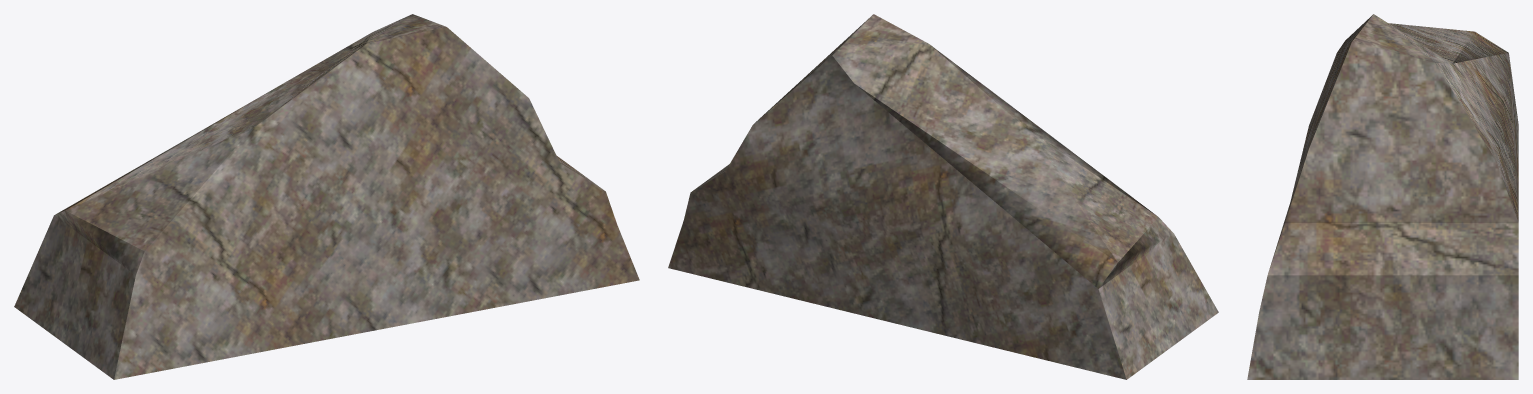
Rendered from RckS04.glb.
3 views of the same model, side by side, from view 1: azimuth 30°, elevation 25°; view 2: azimuth 150°, elevation 25°; view 3: azimuth 270°, elevation 25° (orthographic). The views are drawn at different scales.
Visible parts, largest first — view 1: _RckS04; view 2: _RckS04; view 3: _RckS04.
Boxes of the visible parts, x1,y1,x2,y2 form: _RckS04: (14, 14, 639, 379); _RckS04: (668, 14, 1218, 379); _RckS04: (1247, 14, 1518, 379).
Bounding box in the file's own units: 5.74 × 2.78 × 2.59.
1 material, 1 textured.
